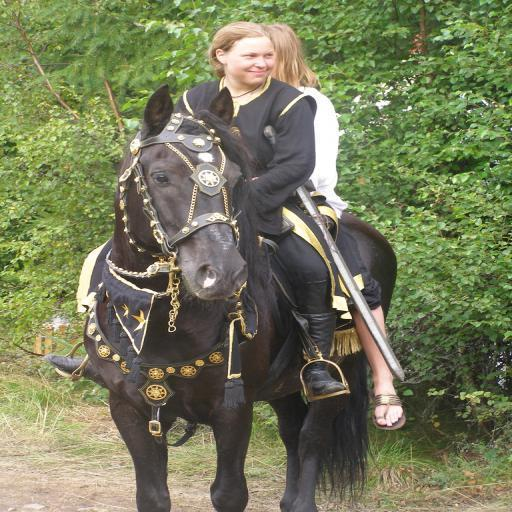horse: (82, 82, 400, 512)
